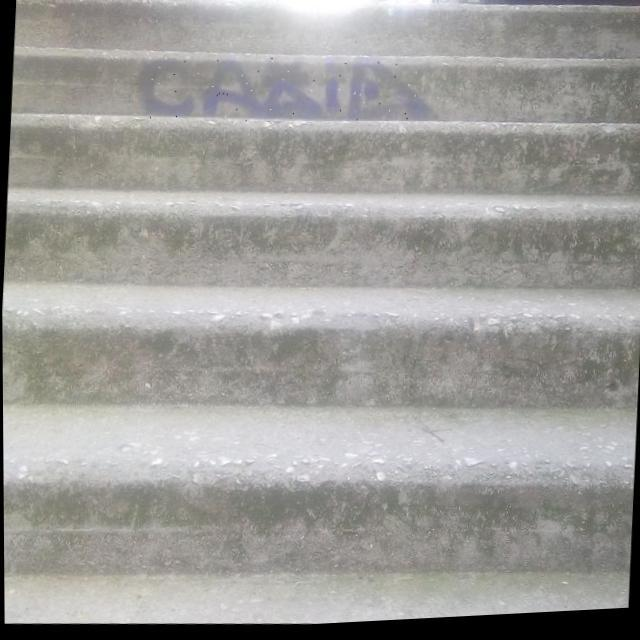-: (138, 47, 441, 138)
